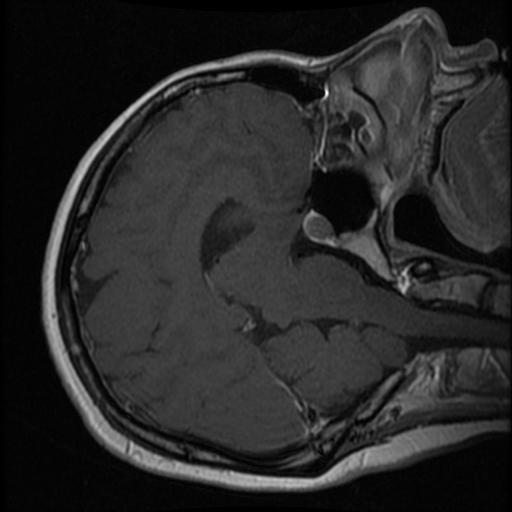pituitary tumour: (303, 211, 331, 240)
